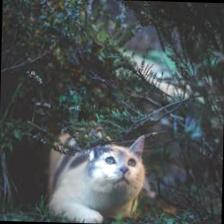kedo: (46, 135, 146, 223)
